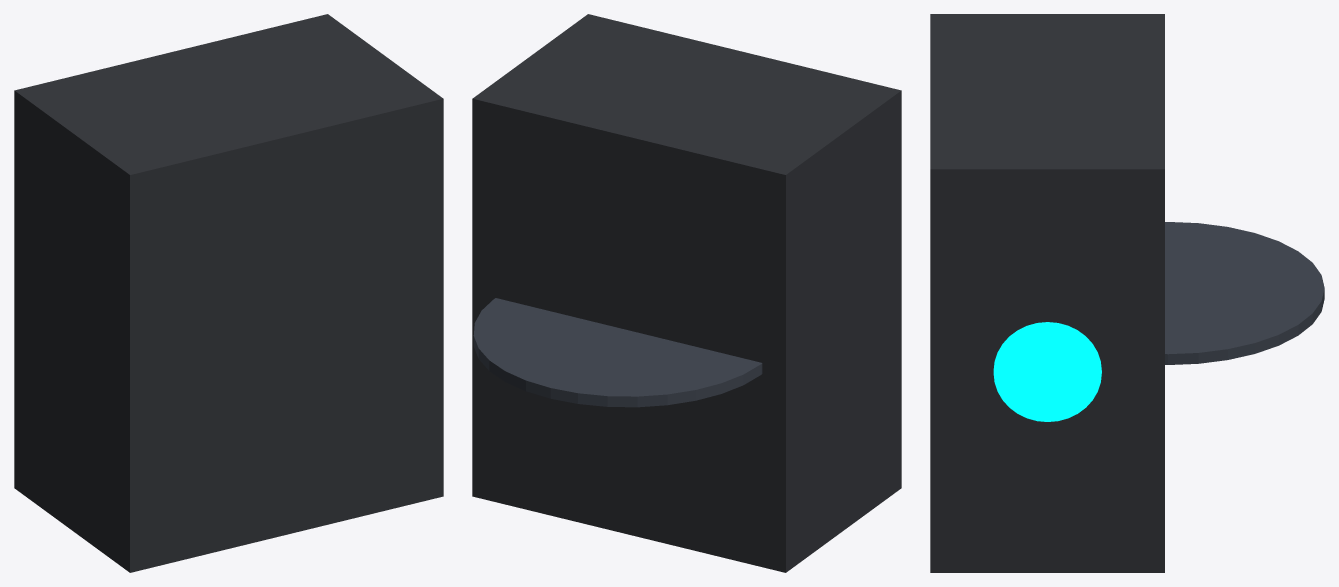
The model's file is psu_unit.glb.
3 views of the same model, side by side, from view 1: azimuth 30°, elevation 25°; view 2: azimuth 150°, elevation 25°; view 3: azimuth 270°, elevation 25° (orthographic).
Visible parts, largest first — view 1: PSU_Chassis; view 2: PSU_Chassis, PSU_FanGrille; view 3: PSU_Chassis, PSU_FanGrille, PSU_RingLED.
Boxes of the visible parts, x1,y1,x2,y2 form: PSU_Chassis: (14,14,443,572); PSU_Chassis: (472,14,901,572); PSU_FanGrille: (473,298,762,407); PSU_Chassis: (930,14,1164,572); PSU_FanGrille: (1165,222,1324,364); PSU_RingLED: (993,322,1101,421).
Bounding box in the file's own units: 1.24 × 1.48 × 1.31.
